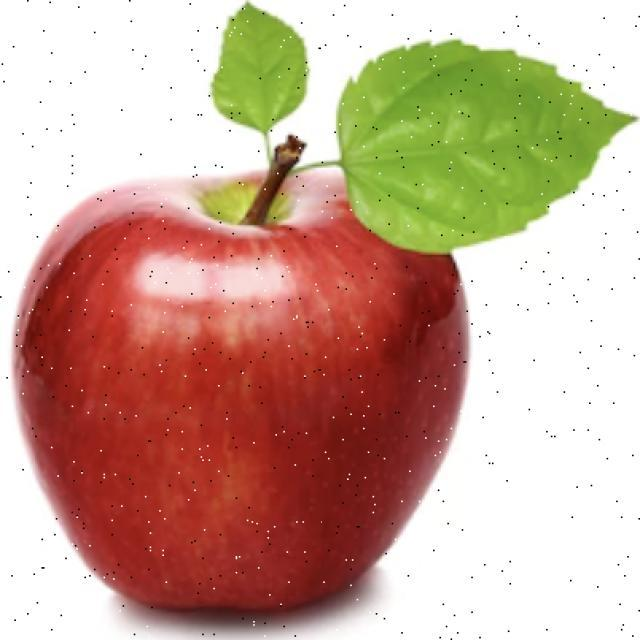Fresh Apple: (34, 155, 458, 640)
